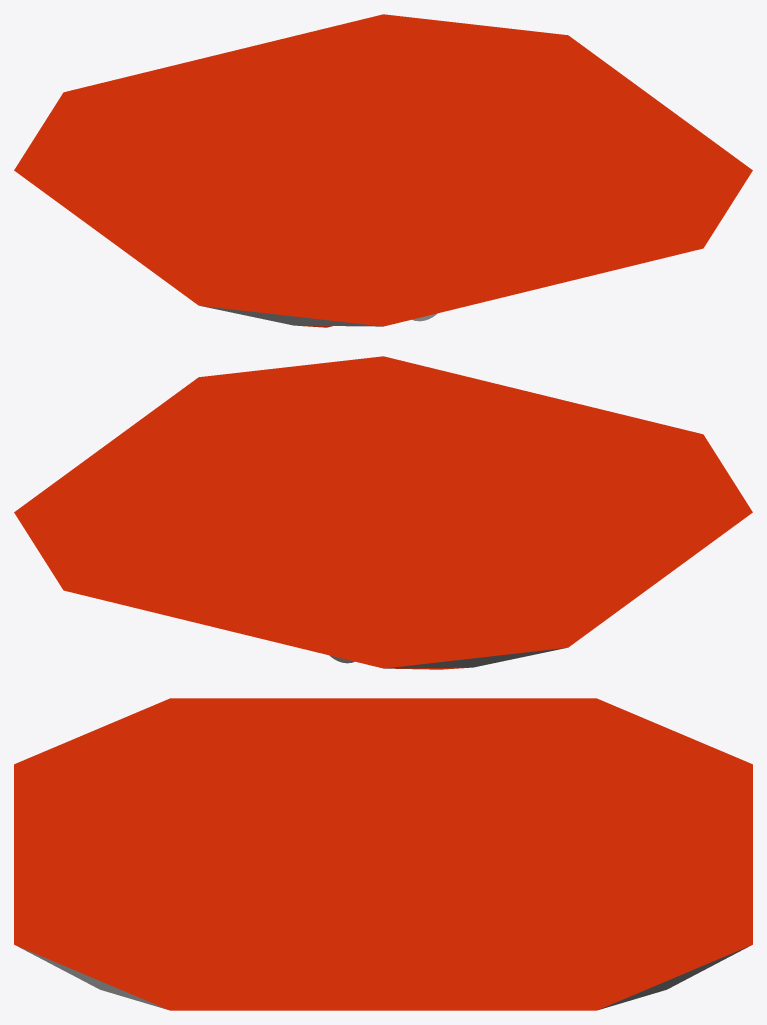
File: MovingPlatformModel.fbx
3 views of the same model, one above another, from view 1: azimuth 30°, elevation 25°; view 2: azimuth 150°, elevation 25°; view 3: azimuth 270°, elevation 25° (orthographic). The views are drawn at different scales.
Visible parts, largest first — view 1: MovingPlatform; view 2: MovingPlatform; view 3: MovingPlatform.
Part boxes in pixels (left/top/right/bottom): MovingPlatform: left=14, top=14, right=752, bottom=327; MovingPlatform: left=14, top=356, right=752, bottom=669; MovingPlatform: left=14, top=698, right=752, bottom=1010.
Size of the model in its own units: 600 by 124 by 600.
